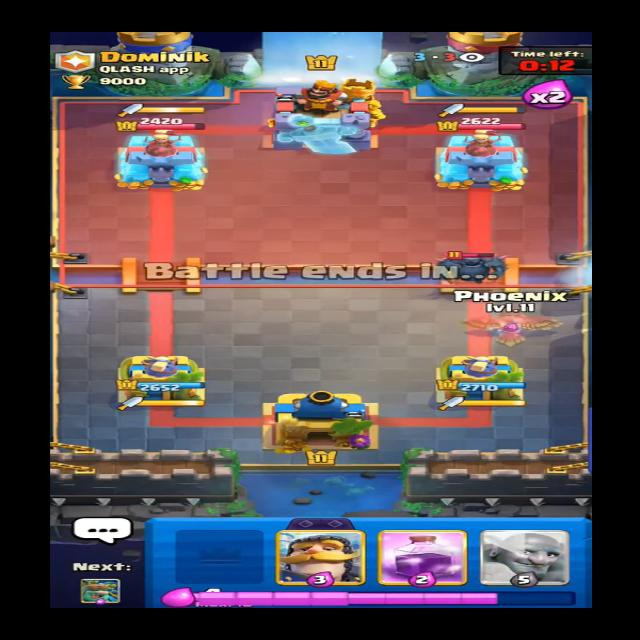pekka: (428, 247, 510, 284)
